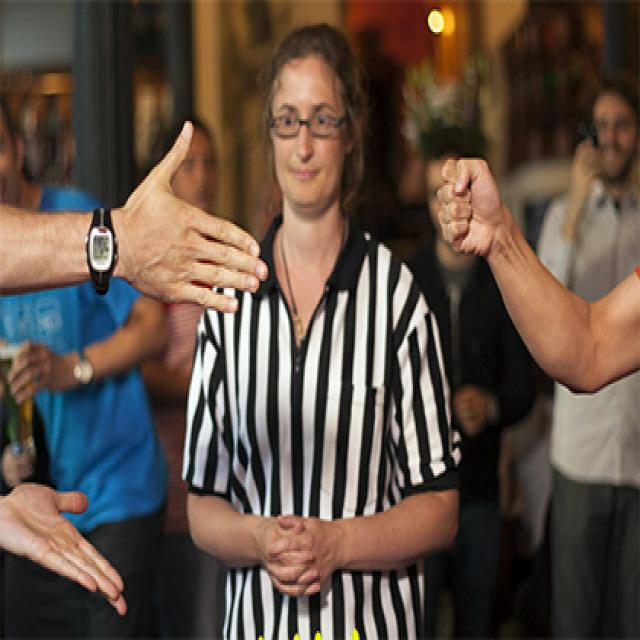paper: (120, 178, 268, 314)
rock: (440, 158, 494, 254)
